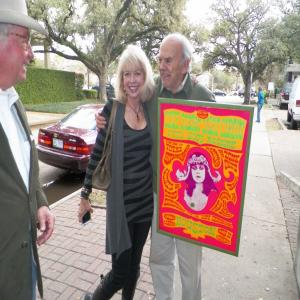Vehicle-registration-plate: (56, 139, 65, 148)
